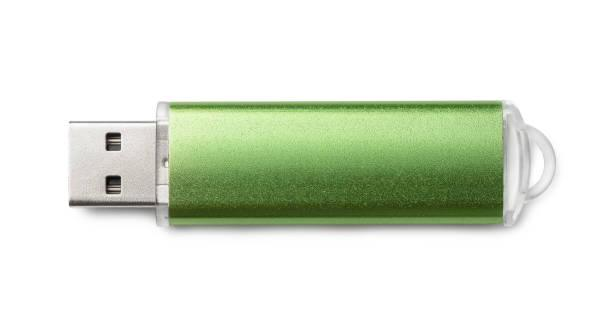USB Flash Drive: (68, 100, 554, 227)
